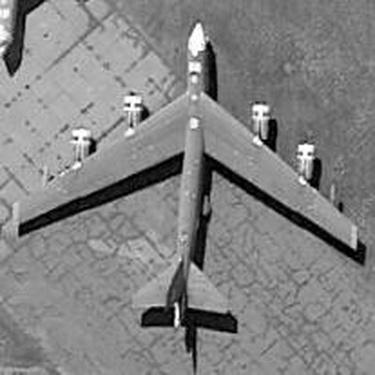airplane: (9, 7, 367, 356), (1, 2, 34, 71)
